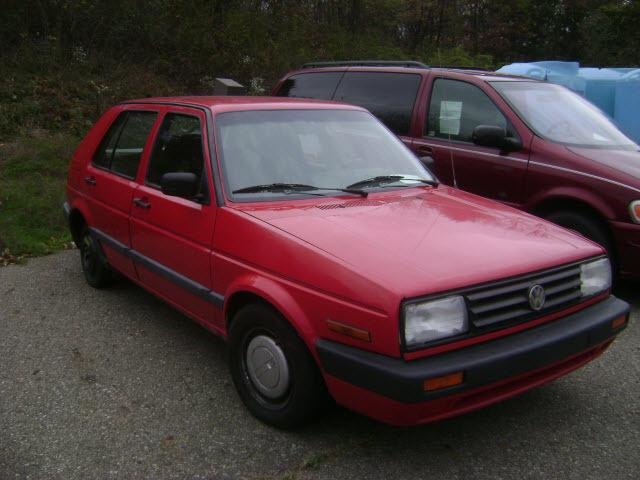Hatchback: (62, 92, 631, 430)
